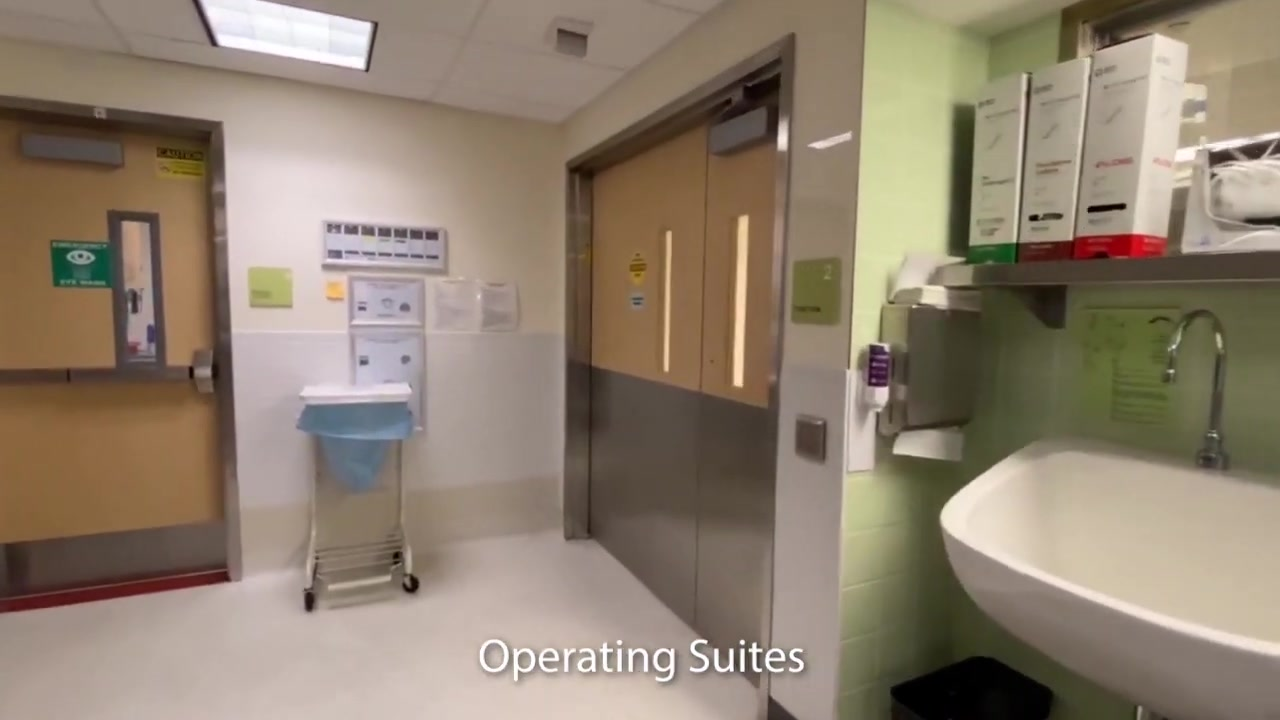dispenser: (879, 304, 983, 439), (857, 342, 891, 421)
faucet: (1162, 308, 1230, 471)
press_to_open: (795, 414, 827, 462)
push_latch: (1, 345, 222, 394)
sink: (940, 439, 1280, 720)
utility_cart: (296, 382, 424, 612)
waste_bin: (298, 383, 419, 497)
